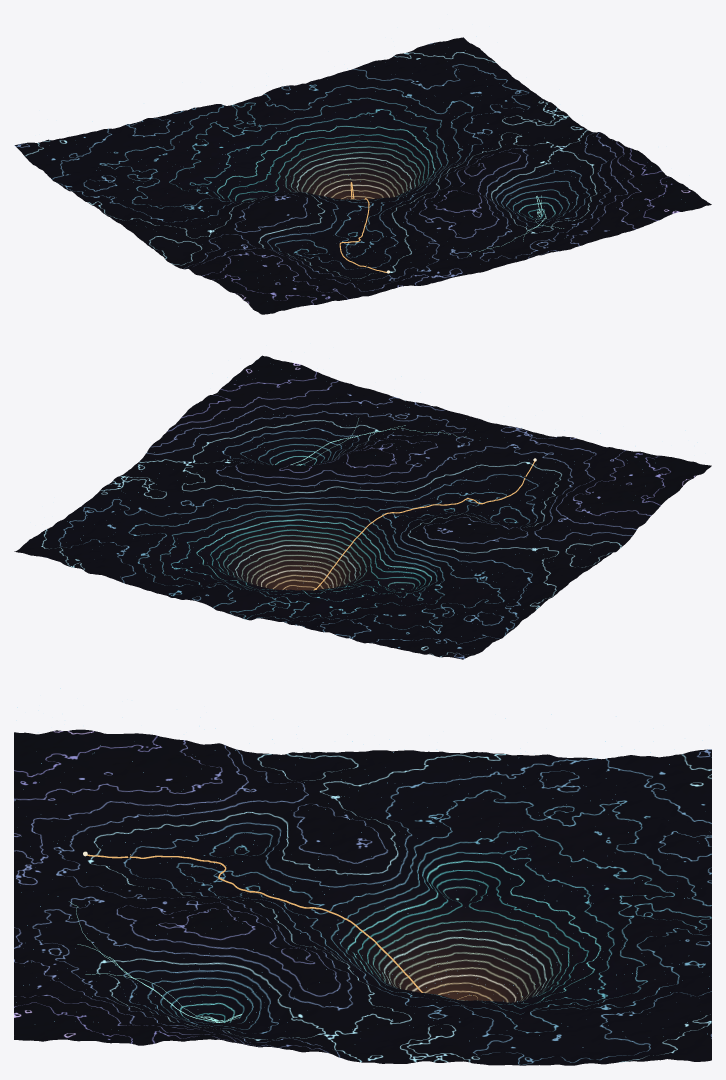
File: descent.glb
3 views of the same model, one above another, from view 1: azimuth 30°, elevation 25°; view 2: azimuth 150°, elevation 25°; view 3: azimuth 270°, elevation 25° (orthographic). The views are drawn at different scales.
Parts seen in each view (by area): view 1: terrain; view 2: terrain; view 3: terrain, run_glow.
Boxes of the visible parts, box(x1,y1,x2,y2) form: terrain: box(14, 37, 711, 314); terrain: box(14, 355, 711, 659); terrain: box(14, 729, 711, 1065); run_glow: box(87, 854, 423, 992).
Bounding box in the file's own units: 460 × 111 × 440.
Materials: 21 (1 with a texture image).
